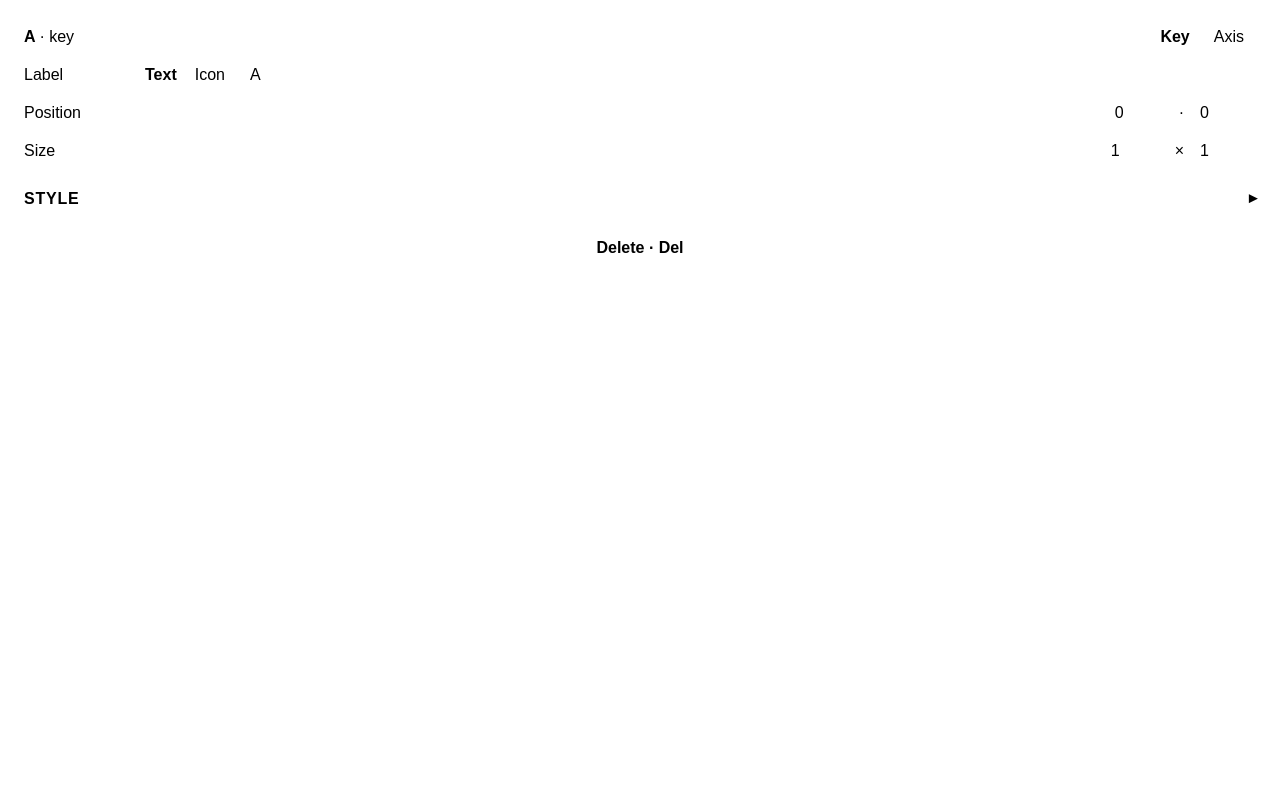
it: KeyPopover - the Style block is shut on a first run › unfolds on its heading, and remembers it
Click the button "STYLE ▾" at (52, 198), box [24,189,1256,208]
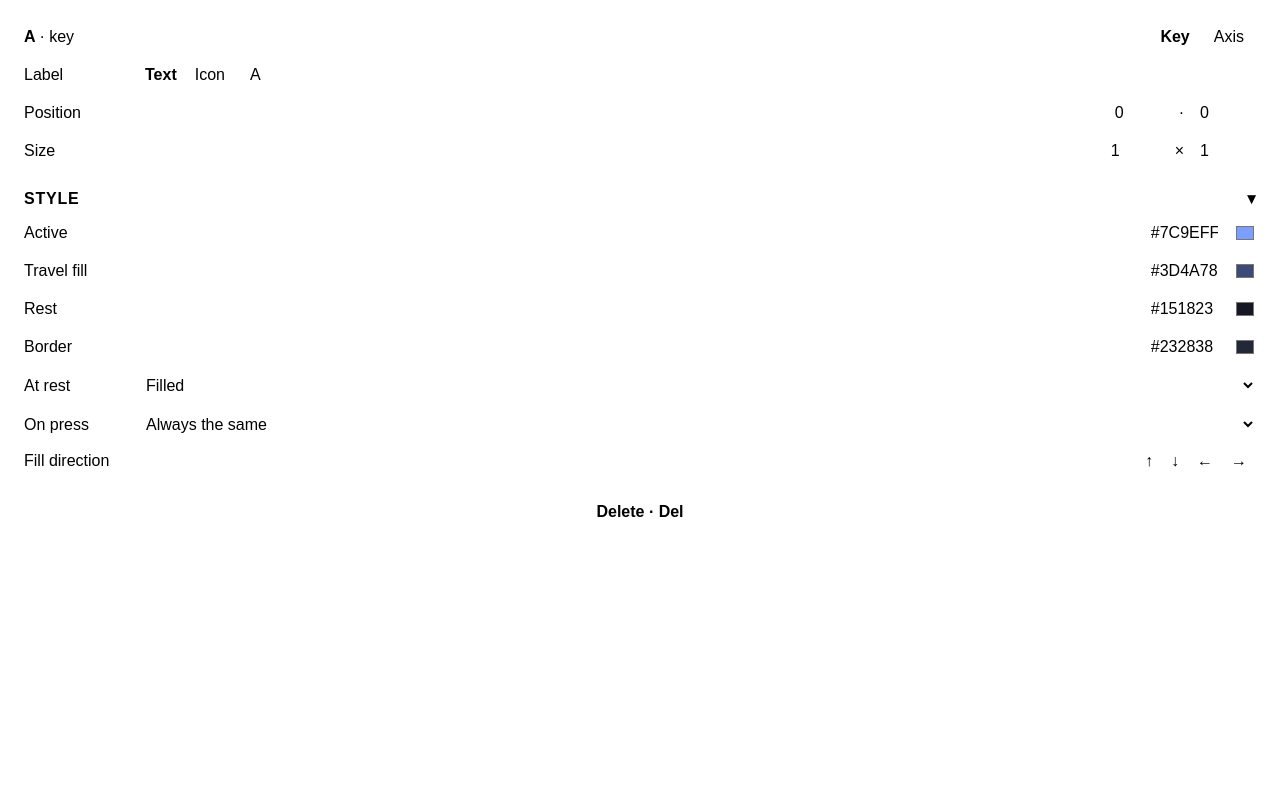
expect the element showing "Travel fill" is shown: met, box [24,258,1256,284]
